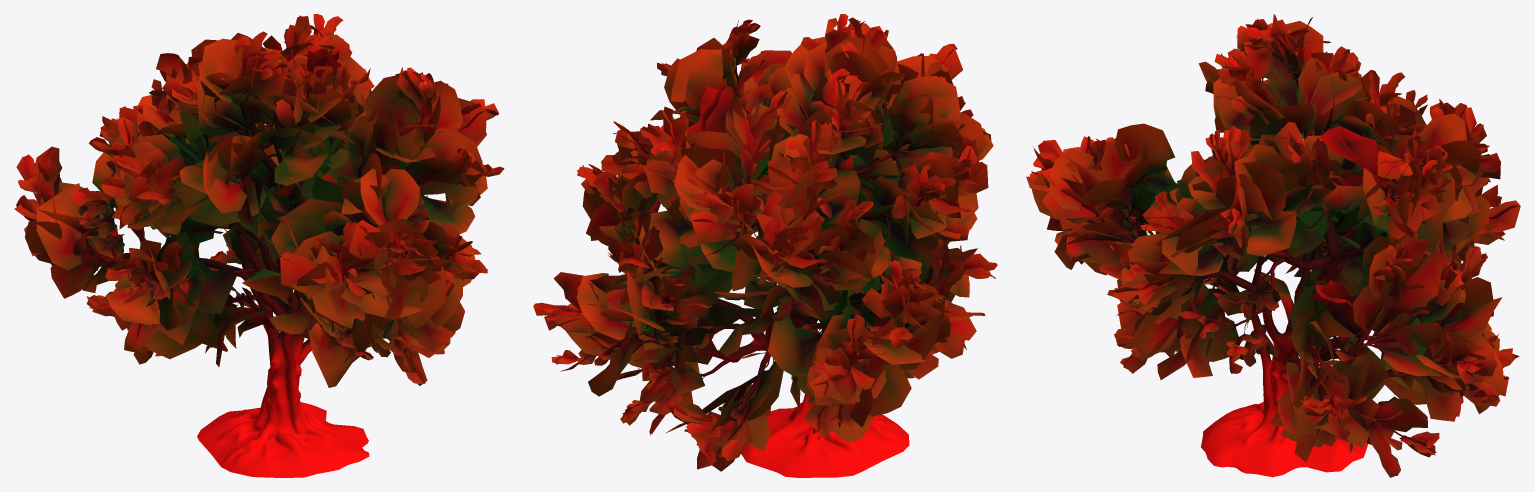
File: JuniperOldGCATA_A.fbx
3 views of the same model, side by side, from view 1: azimuth 30°, elevation 25°; view 2: azimuth 150°, elevation 25°; view 3: azimuth 270°, elevation 25° (orthographic). The views are drawn at different scales.
Visible parts, largest first — view 1: JOGCA_Leaves_LOD0, JOGCA_Bark_LOD0; view 2: JOGCA_Leaves_LOD0, JOGCA_Bark_LOD0; view 3: JOGCA_Leaves_LOD0, JOGCA_Bark_LOD0.
Boxes of the visible parts, <box> form: JOGCA_Leaves_LOD0: <box>14,14,504,387</box>; JOGCA_Bark_LOD0: <box>86,73,470,477</box>; JOGCA_Leaves_LOD0: <box>533,14,997,471</box>; JOGCA_Bark_LOD0: <box>561,69,923,477</box>; JOGCA_Leaves_LOD0: <box>1026,14,1520,477</box>; JOGCA_Bark_LOD0: <box>1092,37,1473,477</box>.
Size of what is drawn, in the model's own units: 16.49 by 17.44 by 18.85.
